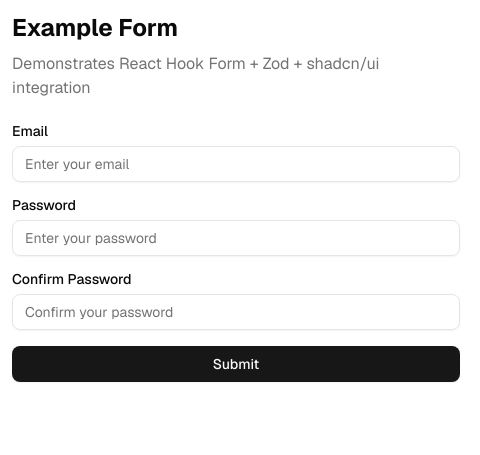
Test case: ExampleForm › shows validation errors for invalid submission
This screenshot has width=480, height=455.
Click the button "Submit": click(236, 364) [12,346,460,382]
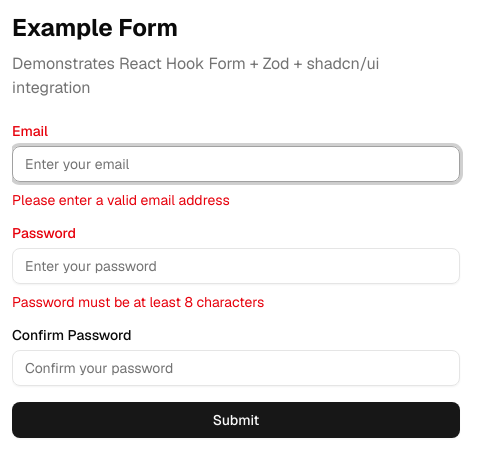
expect the text "Please enter a valid email address" is shown: met, box [12,191,230,209]
expect the text "Password must be at least 8 characters" is shown: met, box [12,293,264,311]
